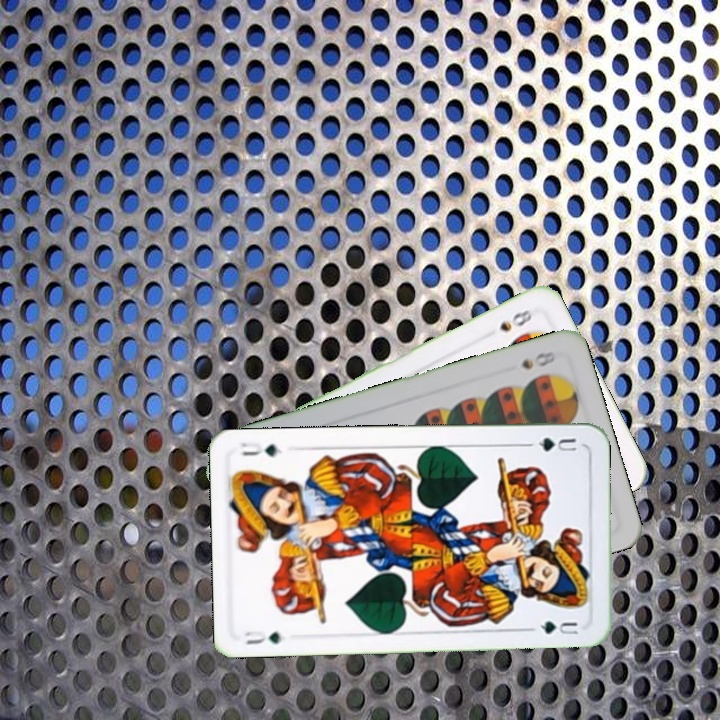GU: (524, 433, 581, 455), (241, 626, 284, 647)
S8: (495, 305, 535, 335), (517, 347, 558, 372)
